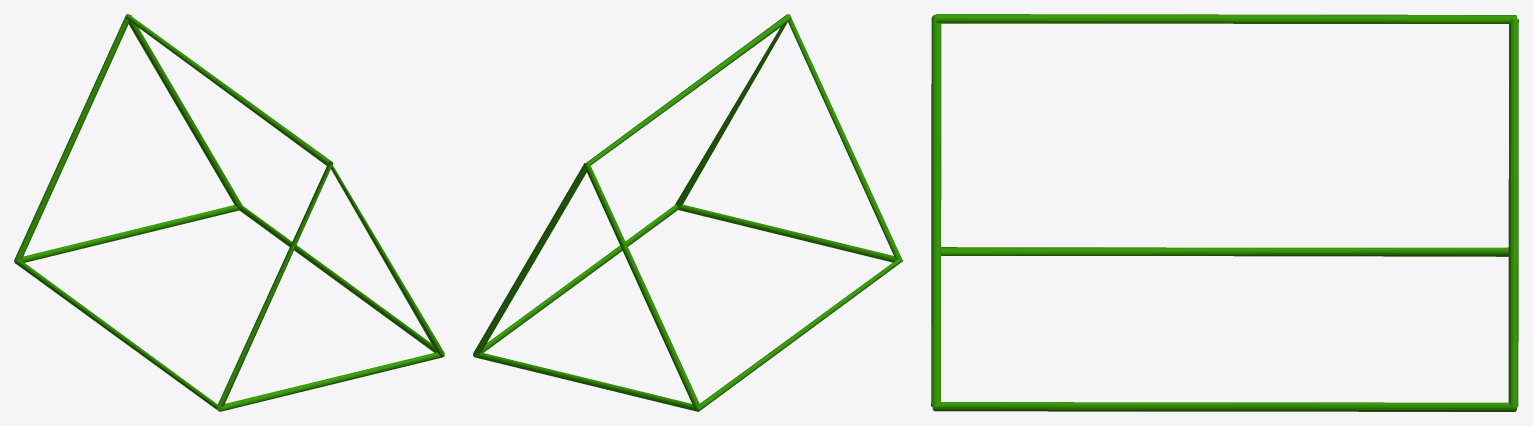
The model's file is prismawire.glb.
3 renders of one model, left to right at view 1: azimuth 30°, elevation 25°; view 2: azimuth 150°, elevation 25°; view 3: azimuth 270°, elevation 25°, orthographic. The views are drawn at different scales.
Parts seen in each view (by area): view 1: Cone; view 2: Cone; view 3: Cone.
Part boxes in pixels (x1,y1,x2,y2): Cone: [14, 14, 444, 411]; Cone: [473, 14, 902, 411]; Cone: [931, 14, 1518, 411].
Size of the model in its own units: 2.29 by 2.15 by 3.58.
